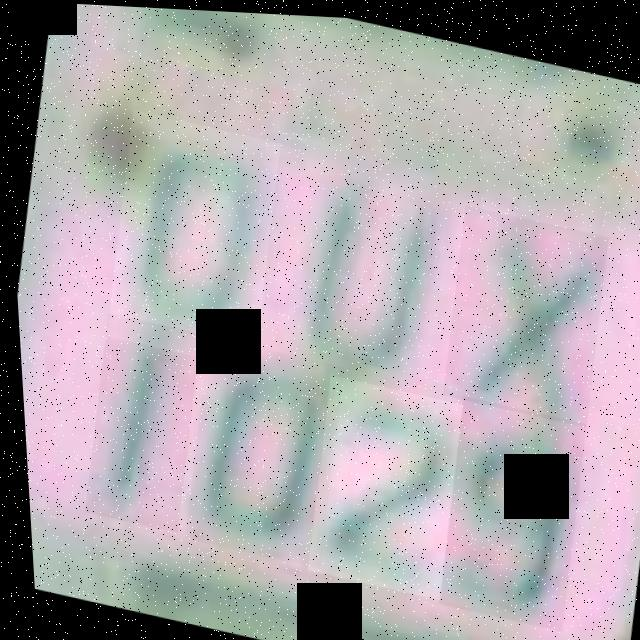0: (168, 332, 349, 567)
1: (68, 310, 205, 532)
2: (291, 370, 467, 596)
9: (421, 389, 591, 627)
O: (91, 107, 289, 368)
U: (255, 130, 485, 403)
X: (428, 198, 615, 422)
